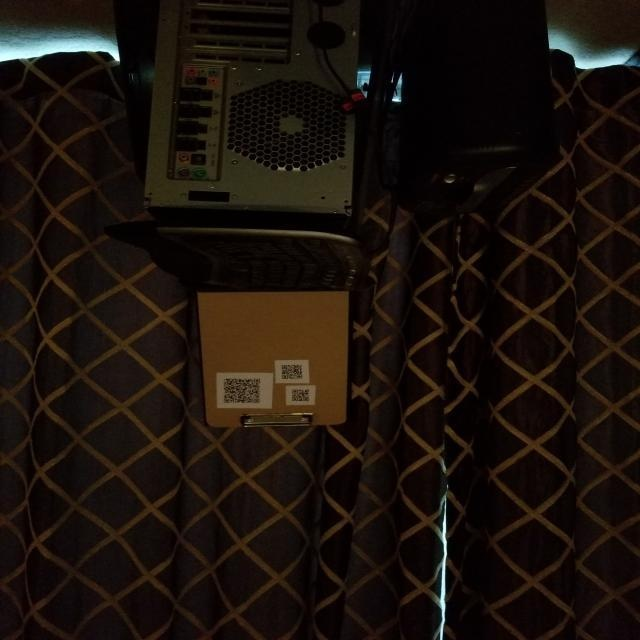qr-code: (218, 372, 266, 411), (279, 354, 311, 383), (288, 386, 318, 406)
